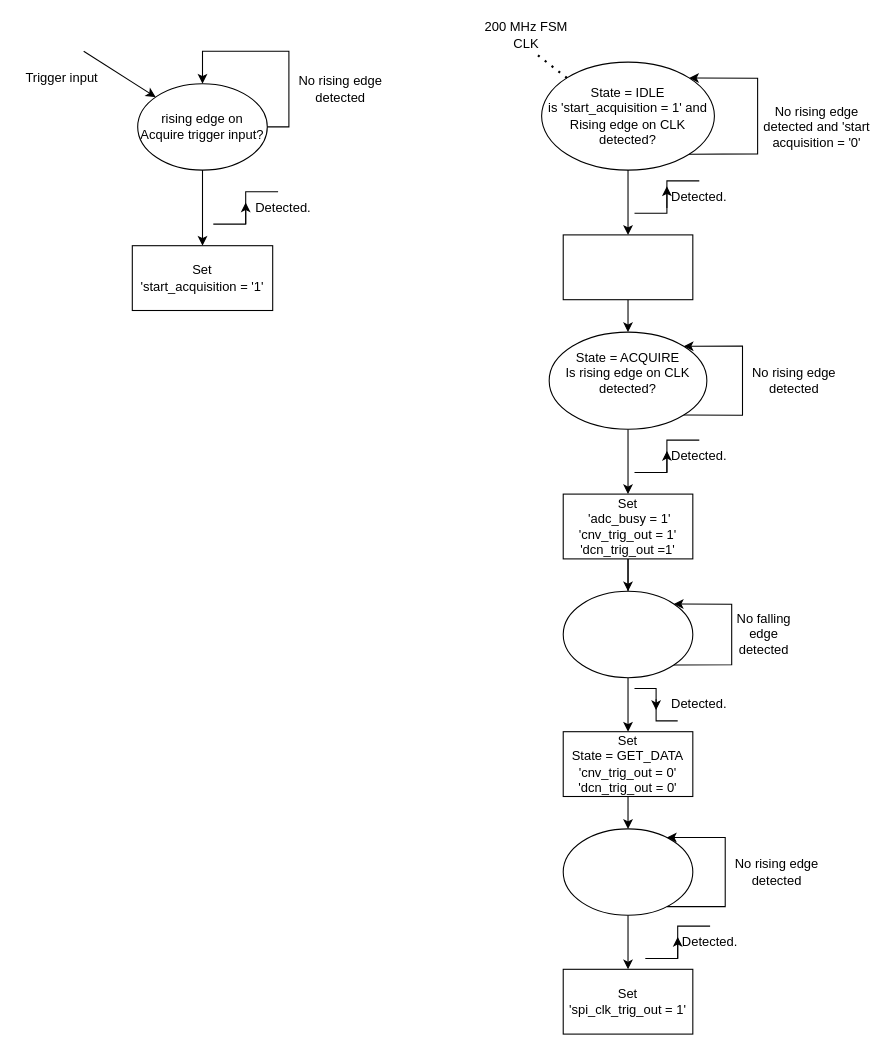
This 890x1053 diagram has some shape labels left out. Each missing label, with the centre of its shape:
"Is falling edge on dcn_busy flag detected?" belongs at (627,634).
"set State = ACQUIRE" belongs at (627,267).
"State = GET_DATA is rising edge on CLK detected?" belongs at (627,871).
